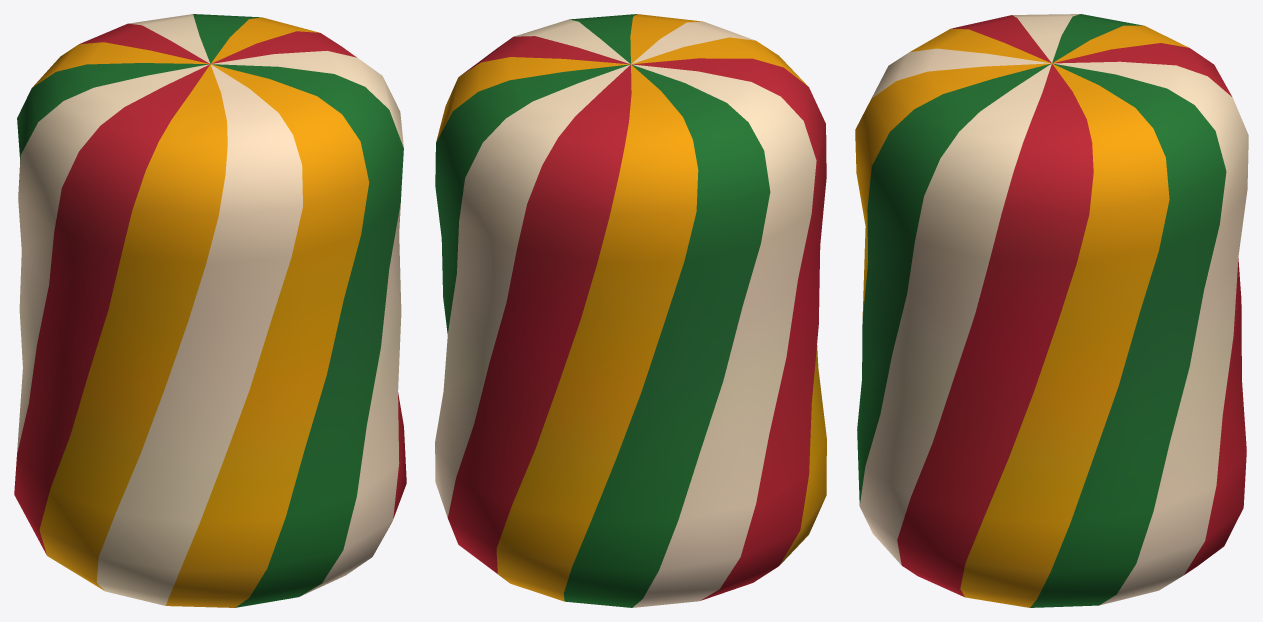
Rendered from candy_hard_19.fbx.
The picture shows the model from 3 angles, left to right: view 1: azimuth 30°, elevation 25°; view 2: azimuth 150°, elevation 25°; view 3: azimuth 270°, elevation 25°; orthographic projection.
Visible parts, largest first — view 1: c_h_19; view 2: c_h_19; view 3: c_h_19.
Boxes of the visible parts, <box> form: c_h_19: <box>14,14,406,607</box>; c_h_19: <box>435,14,826,607</box>; c_h_19: <box>855,14,1248,607</box>.
Bounding box in the file's own units: 118 × 163 × 118.
